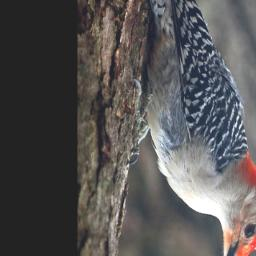Woodpecker: (126, 0, 256, 256)
